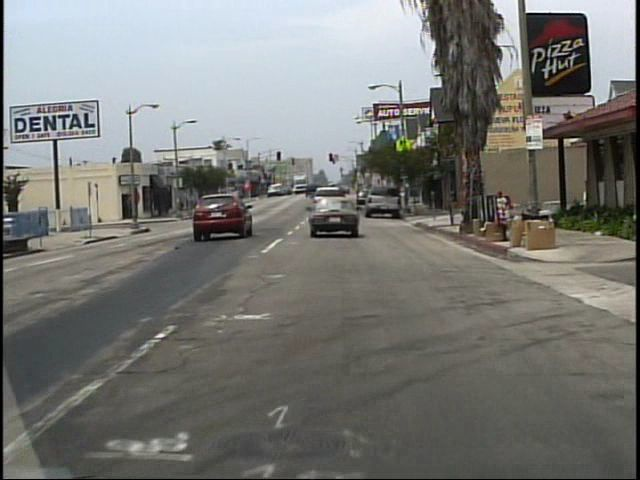person: (478, 180, 489, 214), (468, 183, 477, 209)
